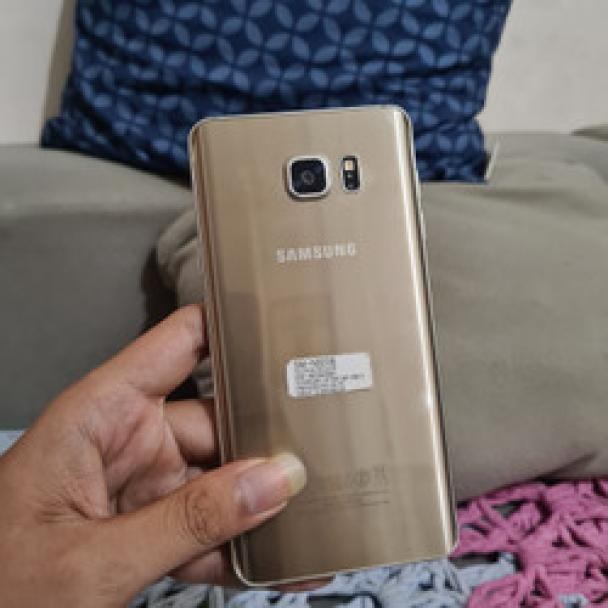Handphone: (180, 113, 462, 585)
